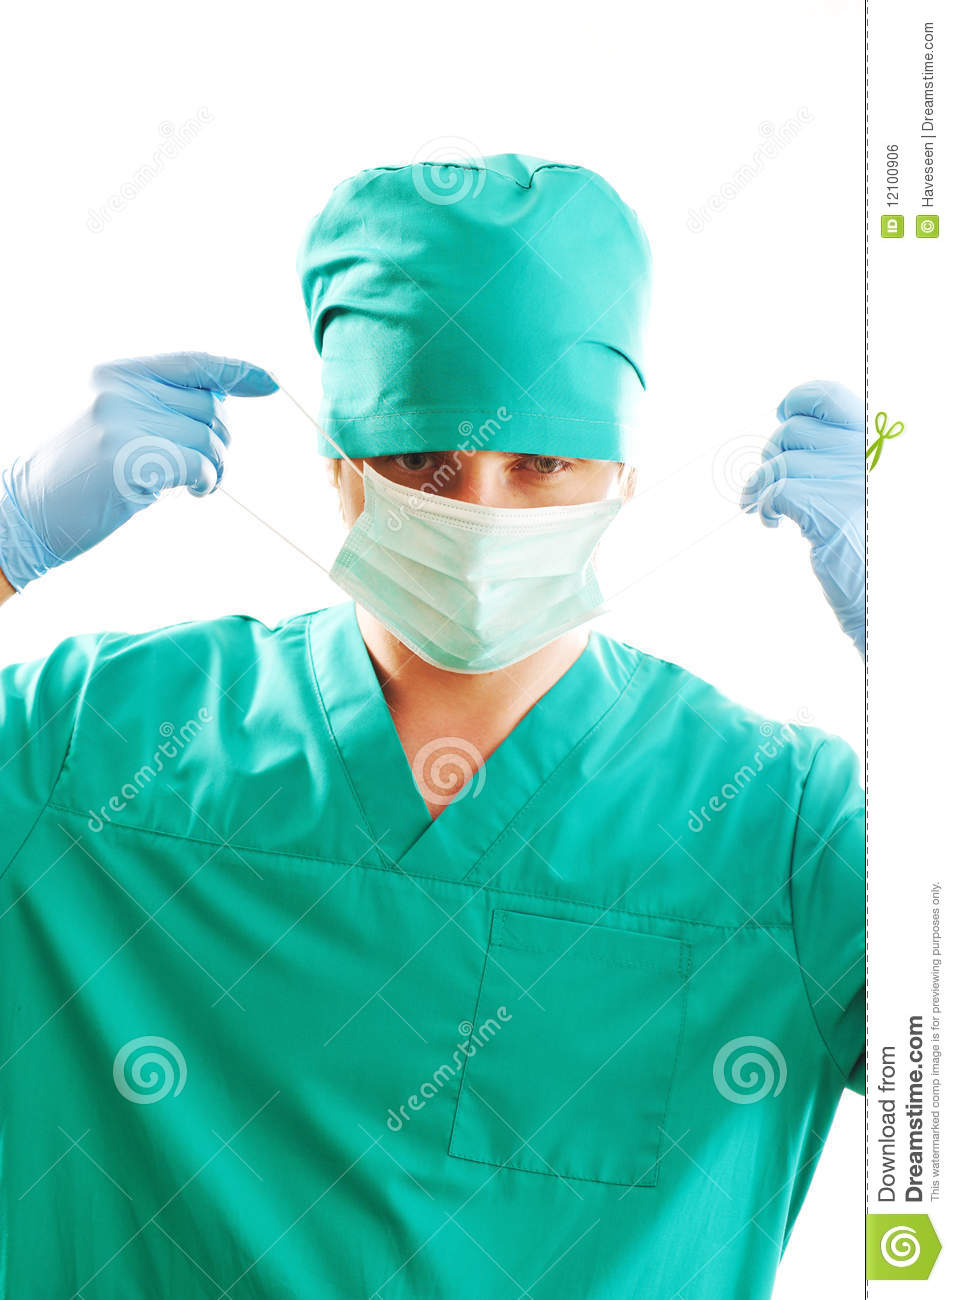mask: (347, 469, 603, 701)
